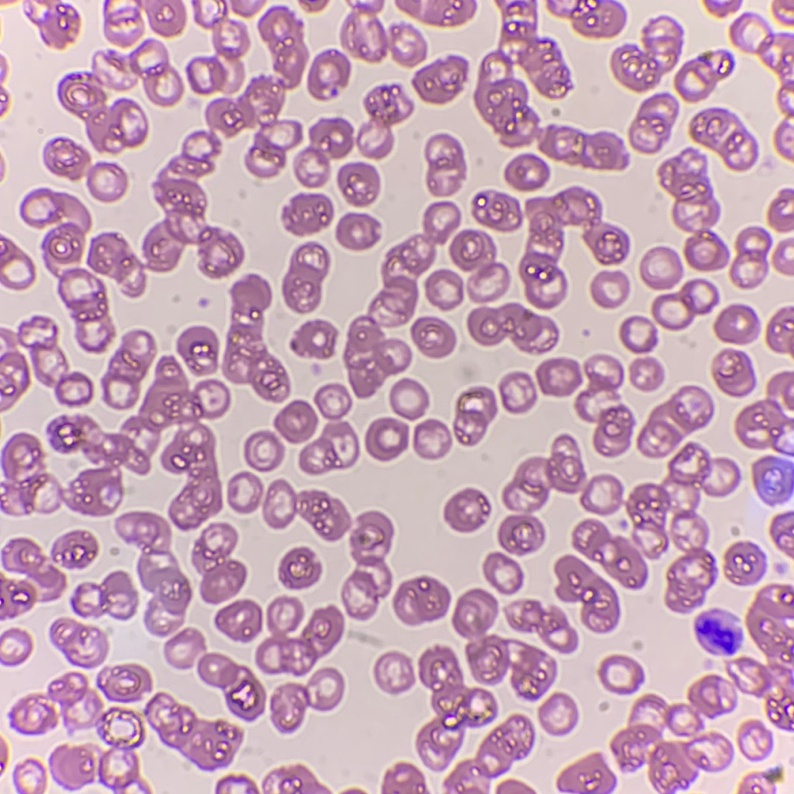RBC: (611, 584, 793, 793), (573, 443, 738, 612), (474, 0, 628, 168), (344, 201, 460, 397), (125, 356, 229, 529), (206, 7, 307, 177), (0, 416, 155, 515), (498, 435, 622, 554), (143, 132, 243, 277), (58, 41, 182, 152), (519, 187, 628, 308), (48, 673, 144, 793), (453, 589, 555, 698), (417, 647, 496, 769), (116, 512, 191, 634), (223, 274, 289, 401), (0, 316, 92, 406), (659, 149, 727, 270), (145, 693, 242, 769), (446, 715, 534, 793), (256, 597, 343, 674), (341, 0, 426, 65), (342, 511, 392, 619), (637, 386, 713, 457), (299, 383, 358, 474), (0, 538, 65, 619), (21, 189, 90, 265), (263, 480, 350, 540), (44, 139, 126, 201), (611, 17, 680, 90), (555, 555, 618, 632), (58, 268, 114, 352), (467, 303, 558, 353), (270, 668, 343, 730), (198, 653, 265, 719), (192, 523, 246, 602), (102, 330, 154, 408), (690, 108, 756, 169), (294, 118, 352, 187), (357, 86, 413, 157), (506, 600, 576, 652), (282, 242, 329, 312), (652, 279, 717, 329), (72, 571, 137, 618), (675, 51, 731, 101), (629, 94, 677, 152), (52, 618, 107, 666), (393, 577, 449, 624), (736, 398, 787, 448), (413, 56, 467, 103), (453, 387, 496, 445), (425, 134, 465, 195), (731, 227, 769, 288), (88, 233, 138, 279), (558, 754, 615, 793), (450, 230, 495, 278), (282, 193, 333, 234), (568, 0, 625, 36), (308, 51, 350, 99), (177, 326, 218, 374), (473, 191, 522, 231), (97, 664, 151, 700), (444, 489, 490, 531), (713, 349, 754, 396), (594, 406, 632, 456), (215, 600, 261, 641), (39, 0, 79, 46), (365, 418, 408, 460), (337, 163, 379, 205), (640, 247, 682, 289), (411, 317, 455, 357), (0, 350, 29, 410), (275, 400, 316, 442), (291, 320, 336, 358), (11, 695, 56, 733), (211, 17, 248, 63), (279, 547, 320, 588), (537, 358, 581, 396), (51, 531, 97, 567), (715, 304, 757, 343), (599, 655, 642, 693), (694, 609, 731, 653), (164, 628, 204, 668), (374, 652, 413, 693), (0, 241, 34, 288), (725, 542, 763, 584), (505, 154, 549, 190), (483, 553, 522, 593), (539, 693, 577, 734), (390, 379, 428, 419), (245, 431, 283, 471), (336, 213, 377, 249), (584, 355, 622, 393), (425, 270, 462, 309), (414, 419, 451, 458), (145, 0, 185, 35), (500, 372, 535, 412), (187, 58, 226, 93), (228, 472, 262, 512), (620, 316, 656, 353), (104, 10, 142, 45), (278, 766, 327, 793), (591, 272, 628, 307), (759, 36, 793, 74), (382, 764, 426, 793), (424, 0, 475, 25), (767, 306, 793, 352), (739, 721, 770, 758), (14, 759, 45, 793), (630, 358, 662, 390), (769, 189, 793, 231), (770, 512, 793, 555), (768, 371, 793, 409), (752, 456, 773, 482), (711, 0, 739, 15), (497, 781, 532, 793), (774, 253, 793, 274), (739, 778, 765, 793), (231, 0, 255, 16), (127, 277, 145, 296), (396, 0, 420, 14), (730, 18, 745, 39), (773, 483, 789, 501), (765, 768, 782, 783), (304, 0, 325, 10), (575, 395, 586, 412), (775, 0, 793, 10), (0, 743, 7, 765), (782, 79, 793, 91), (5, 655, 17, 664), (217, 0, 226, 11), (247, 785, 257, 793), (263, 780, 271, 789), (463, 369, 471, 377), (0, 58, 5, 67)
